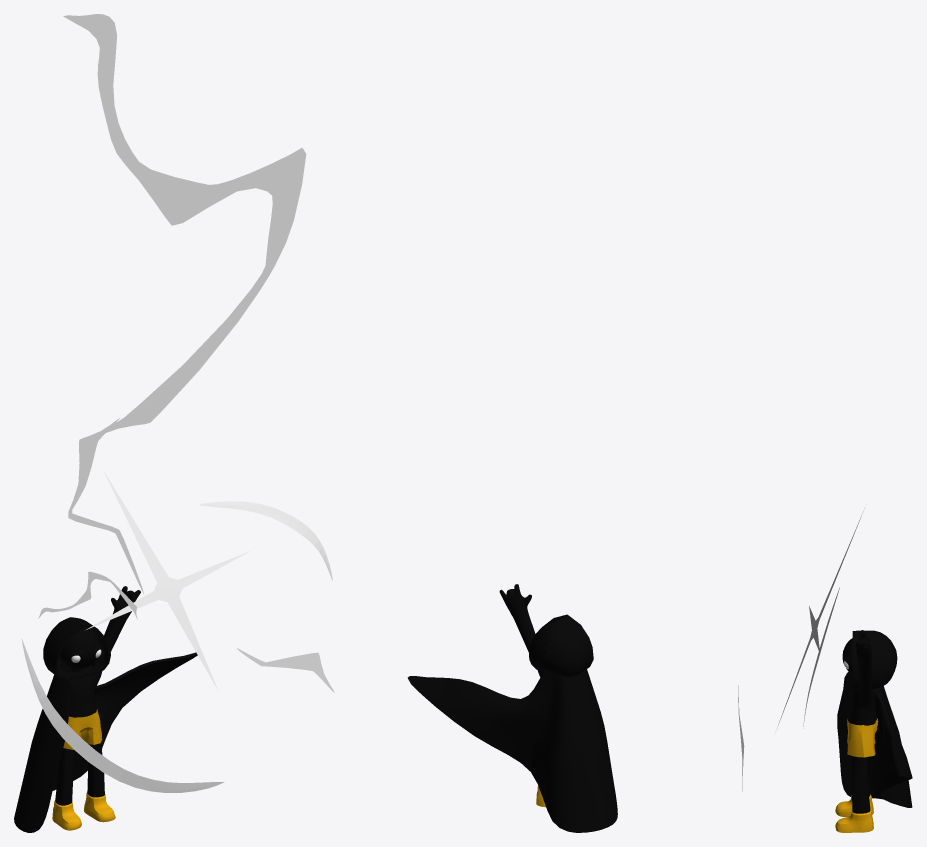
File: LightningWizard.glb
3 views of the same model, side by side, from view 1: azimuth 30°, elevation 25°; view 2: azimuth 150°, elevation 25°; view 3: azimuth 270°, elevation 25° (orthographic). The views are drawn at different scales.
Visible parts, largest first — view 1: Lightning Wizard; view 2: Lightning Wizard; view 3: Lightning Wizard.
Boxes of the visible parts, x1,y1,x2,y2 form: Lightning Wizard: (14, 14, 334, 832); Lightning Wizard: (407, 584, 617, 832); Lightning Wizard: (738, 508, 912, 832).
Bounding box in the file's own units: 0.7196 × 1.71 × 0.3393.
2 materials, 2 textured.
